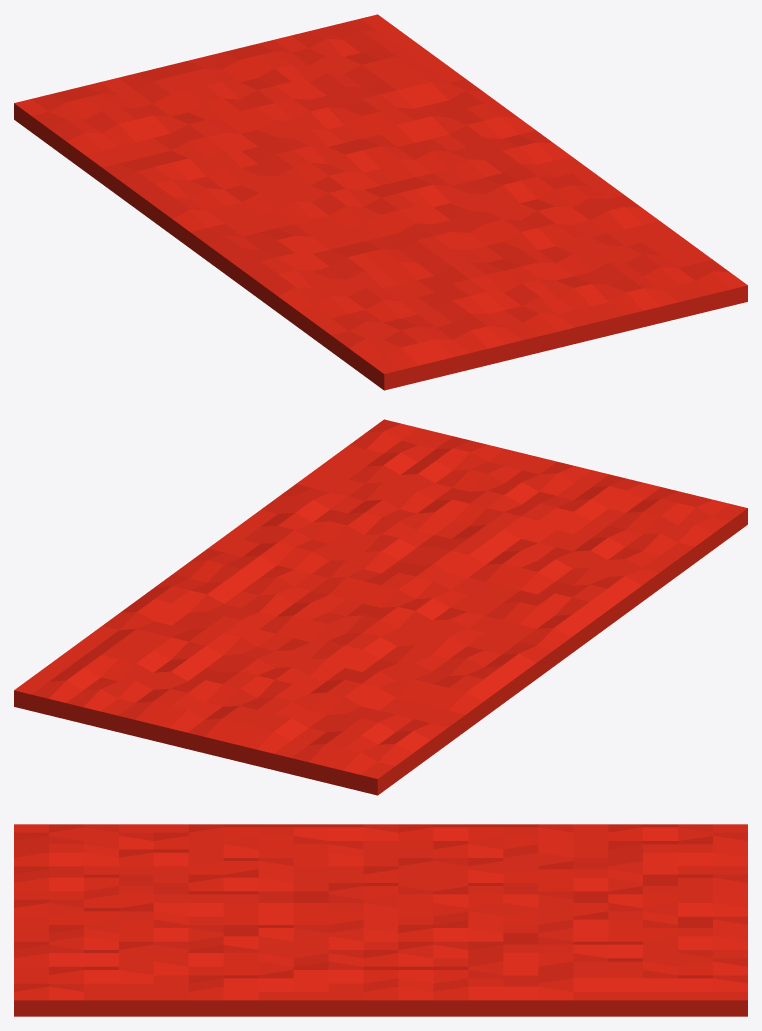
Rendered from carpet.glb.
The picture shows the model from 3 angles, top to bottom: view 1: azimuth 30°, elevation 25°; view 2: azimuth 150°, elevation 25°; view 3: azimuth 270°, elevation 25°; orthographic projection.
Visible parts, largest first — view 1: carpet; view 2: carpet; view 3: carpet.
Part boxes in pixels (x1,y1,x2,y2): carpet: (14, 14, 747, 390); carpet: (14, 419, 747, 795); carpet: (14, 824, 747, 1016).
Size of the model in its own units: 1.15 by 0.0661 by 2.03.
